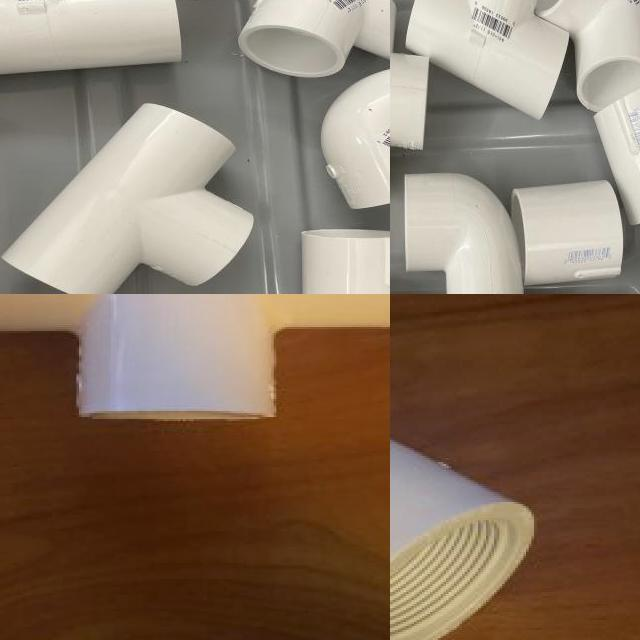L Joint: (390, 438, 537, 640), (403, 174, 526, 294), (319, 72, 390, 212)
T Joint: (1, 103, 255, 294), (405, 0, 571, 122), (390, 0, 430, 150)
